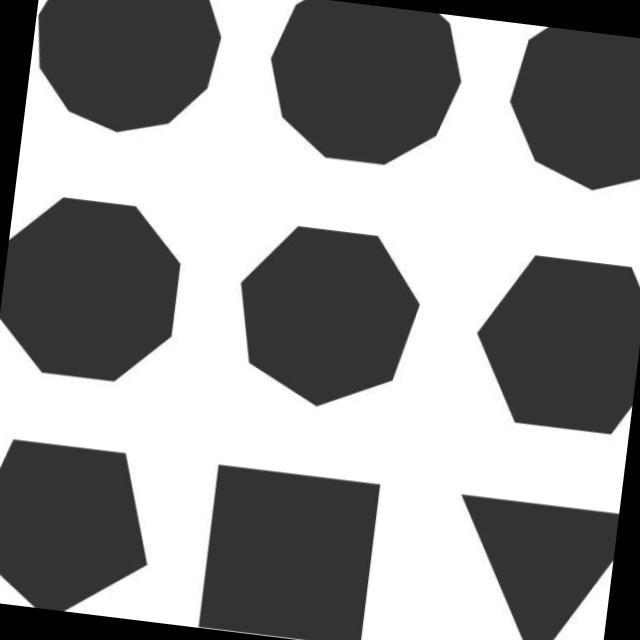square: (192, 433, 388, 640)
triangle: (450, 460, 633, 640)
